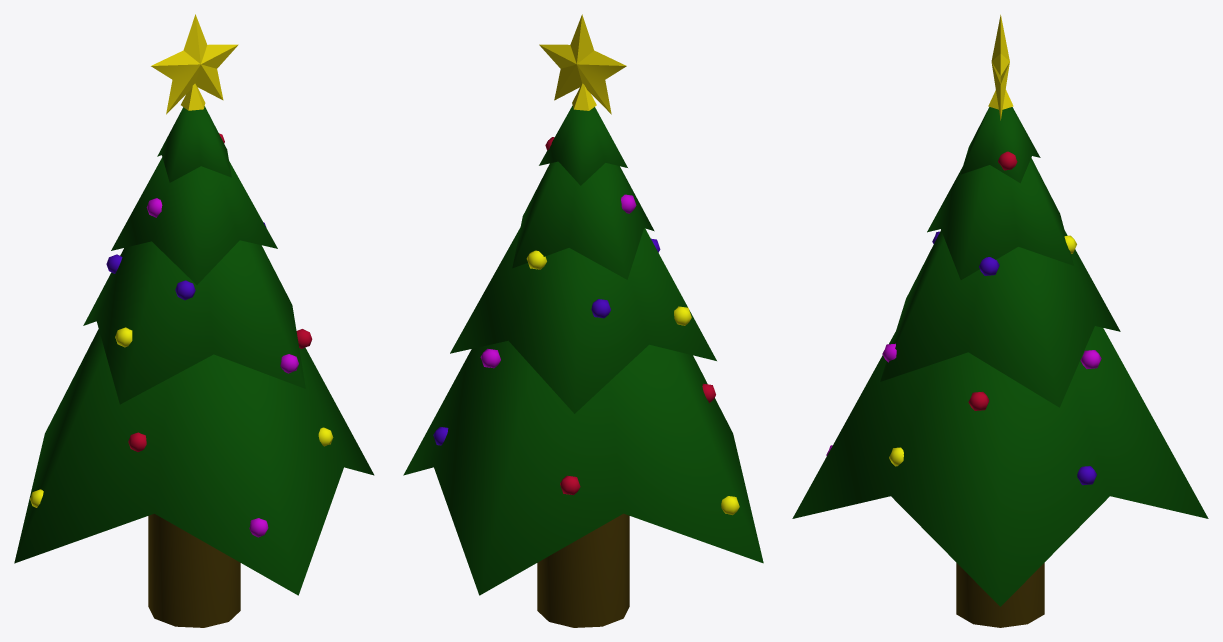
File: Tree_Decorated.fbx
3 renders of one model, left to right at view 1: azimuth 30°, elevation 25°; view 2: azimuth 150°, elevation 25°; view 3: azimuth 270°, elevation 25°, orthographic.
Parts seen in each view (by area): view 1: Tree_Decorated; view 2: Tree_Decorated; view 3: Tree_Decorated.
Boxes of the visible parts, x1=… form: Tree_Decorated: x1=14, y1=14, x2=374, y2=627; Tree_Decorated: x1=403, y1=14, x2=763, y2=627; Tree_Decorated: x1=792, y1=14, x2=1208, y2=627.
Bounding box in the file's own units: 200 × 314 × 200.
